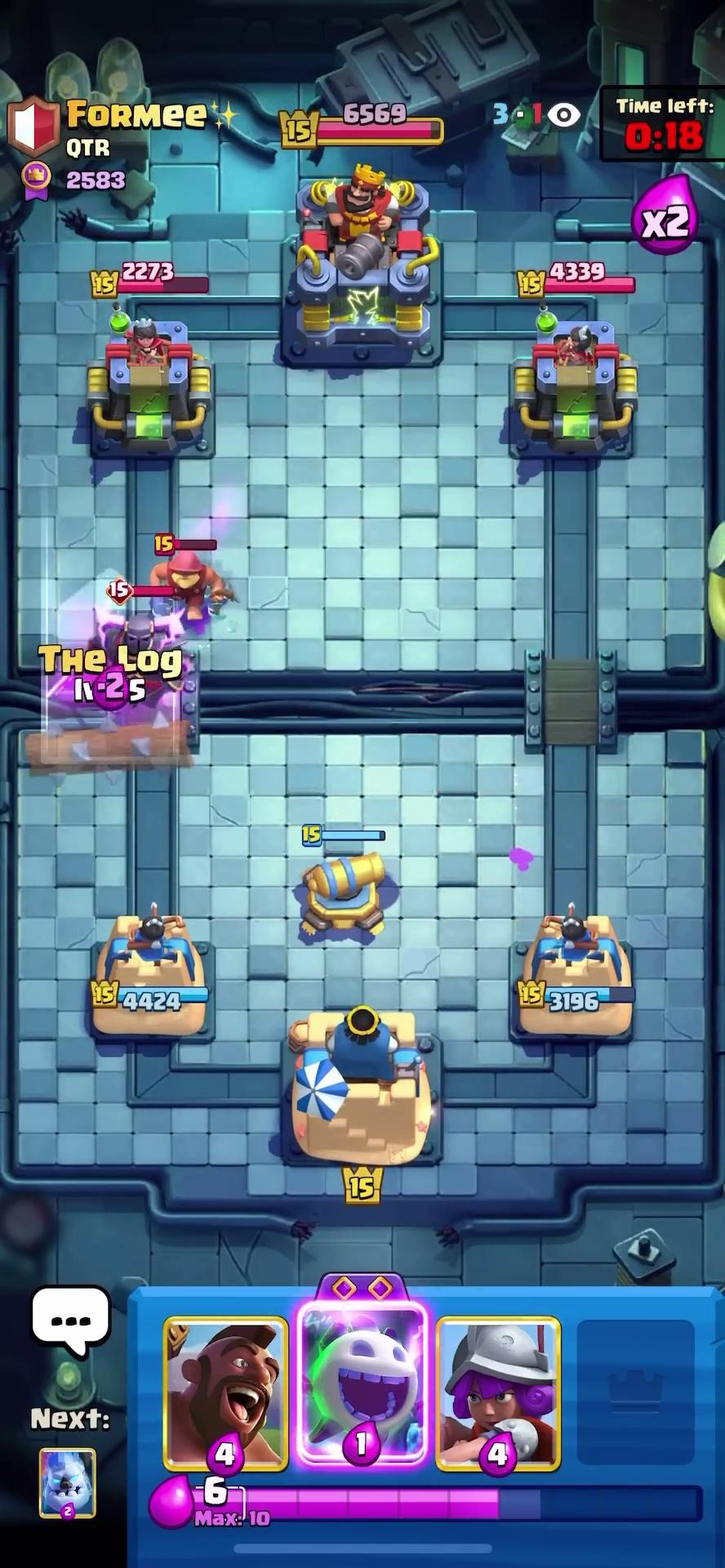cannon: (294, 831, 398, 941)
